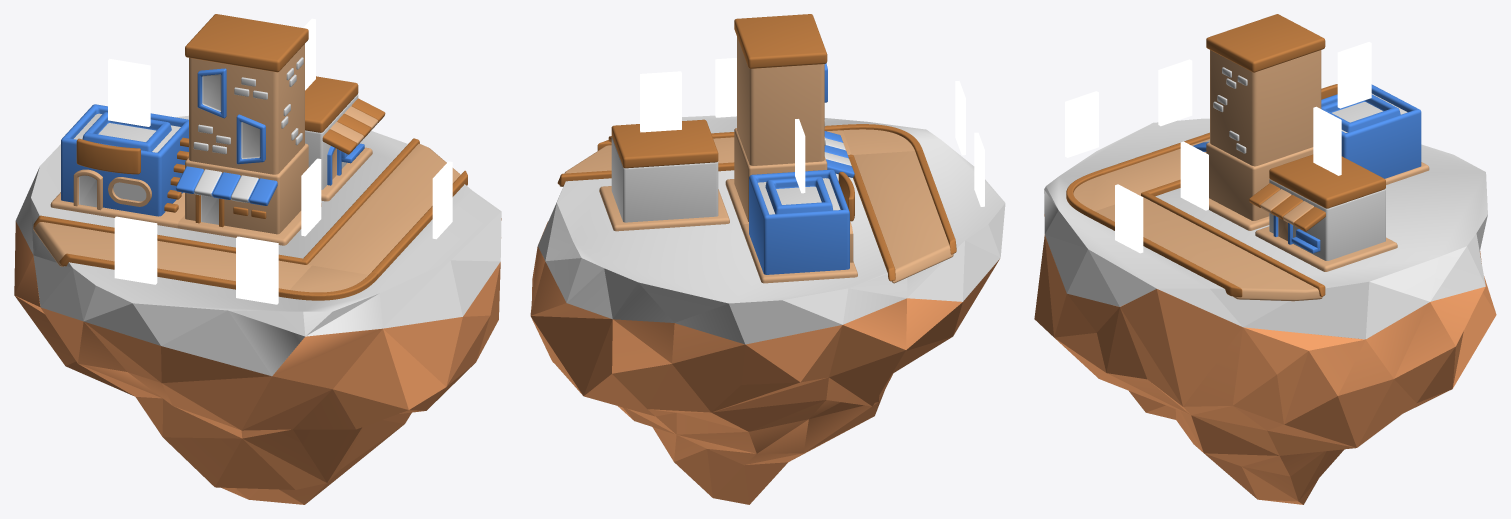
File: disney-island-compressed.glb
3 views of the same model, side by side, from view 1: azimuth 30°, elevation 25°; view 2: azimuth 150°, elevation 25°; view 3: azimuth 270°, elevation 25° (orthographic). The views are drawn at different scales.
Visible parts, largest first — view 1: Sphere_2.010, building 1.002, road.018, road.014, Cube.101, Cube.130, Cube.123, billboard besar.007, billboard besar.008, billboard besar.006, Cube.111, Cube.133 (+23 smaller); view 2: Sphere_2.010, building 1.002, road.014, Cube.130, Cube.137, Cube.101, Cube.133, billboard besar.011, Cube.132, Cube.123, road.007, building 2.002 (+12 smaller); view 3: Sphere_2.010, building 1.002, road.018, Cube.130, Cube.101, Cube.137, Cube.133, Cube.123, road.014, billboard besar.006, billboard besar.007, billboard besar.008 (+13 smaller).
Boxes of the visible parts, left/top/right/bottom form: Sphere_2.010: left=14, top=115, right=501, bottom=504; building 1.002: left=189, top=44, right=304, bottom=174; road.018: left=308, top=143, right=460, bottom=274; road.014: left=33, top=222, right=311, bottom=289; Cube.101: left=185, top=14, right=308, bottom=72; Cube.130: left=61, top=104, right=188, bottom=216; Cube.123: left=185, top=143, right=308, bottom=234; billboard besar.007: left=114, top=216, right=157, bottom=284; billboard besar.008: left=236, top=236, right=278, bottom=304; billboard besar.006: left=108, top=58, right=150, bottom=126; Cube.111: left=175, top=166, right=277, bottom=205; Cube.133: left=305, top=76, right=358, bottom=132; Sphere_2.010: left=530, top=115, right=1005, bottom=504; building 1.002: left=737, top=37, right=824, bottom=165; road.014: left=853, top=151, right=953, bottom=283; Cube.130: left=749, top=169, right=849, bottom=274; Cube.137: left=611, top=136, right=718, bottom=222; Cube.101: left=734, top=14, right=827, bottom=68; Cube.133: left=611, top=119, right=718, bottom=168; billboard besar.011: left=640, top=71, right=681, bottom=132; Cube.132: left=599, top=186, right=729, bottom=231; Cube.123: left=734, top=128, right=827, bottom=221; road.007: left=843, top=129, right=914, bottom=154; building 2.002: left=765, top=176, right=833, bottom=214; Sphere_2.010: left=1034, top=118, right=1496, bottom=504; building 1.002: left=1210, top=50, right=1321, bottom=166; road.018: left=1095, top=196, right=1322, bottom=301; Cube.130: left=1321, top=84, right=1421, bottom=178; Cube.101: left=1206, top=14, right=1325, bottom=72; Cube.137: left=1269, top=179, right=1385, bottom=260; Cube.133: left=1269, top=154, right=1385, bottom=208; Cube.123: left=1206, top=142, right=1313, bottom=220; road.014: left=1099, top=138, right=1209, bottom=195; billboard besar.006: left=1337, top=42, right=1371, bottom=108; billboard besar.007: left=1158, top=59, right=1192, bottom=126; billboard besar.008: left=1065, top=91, right=1098, bottom=157.
Size of the model in its own units: 5.06 by 5.56 by 5.24.
